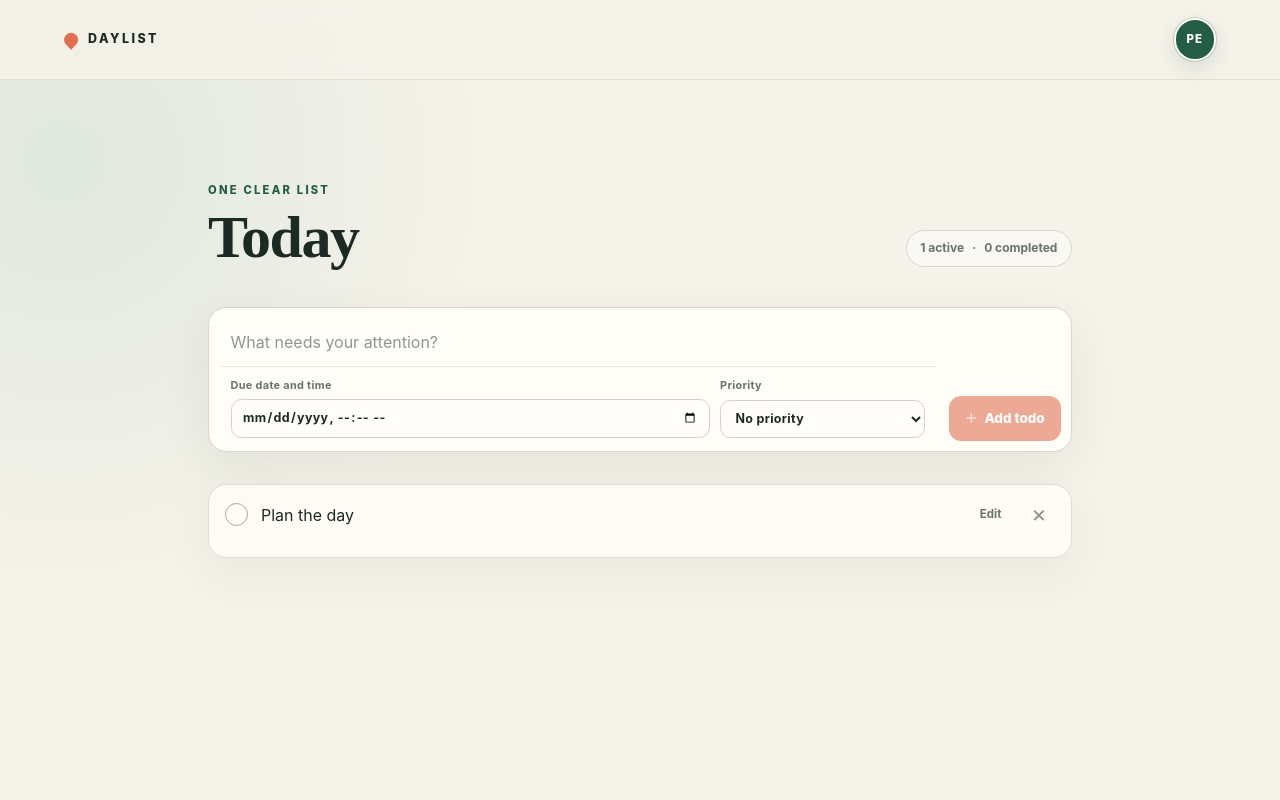
Test case: App › waits for a successful todo refresh before showing the completion cue
The width and height of the screenshot is (1280, 800).
Click the checkbox named "Mark Plan the day completed" at (237, 514), box left=225, top=503, right=248, bottom=526
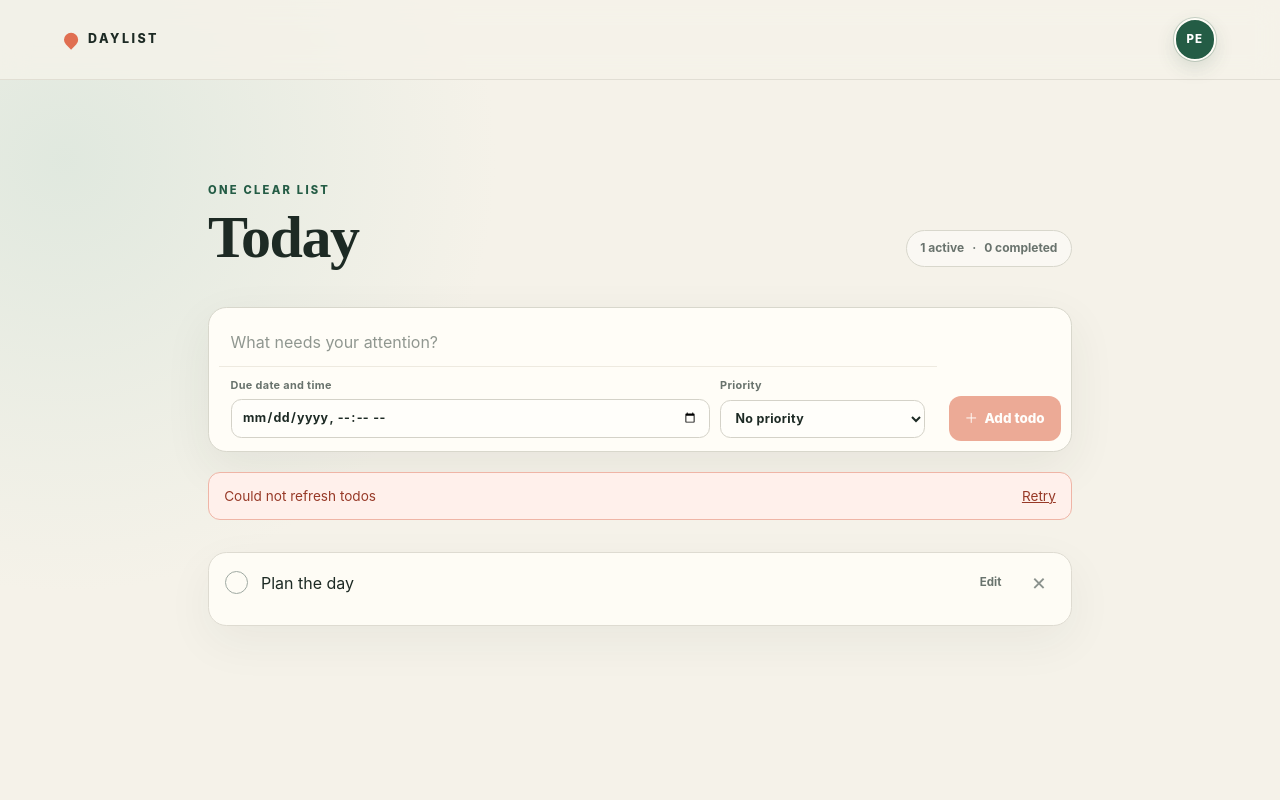
Expected: the list named "Active todos" shows "Plan the day", left=261, top=572, right=354, bottom=592
Expected: the message shows "Could not refresh todos", left=224, top=488, right=376, bottom=504
